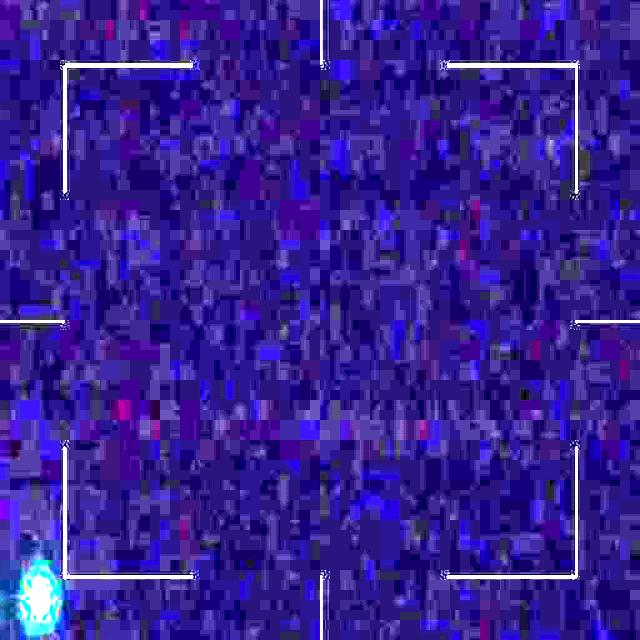bird: (0, 568, 54, 625)
